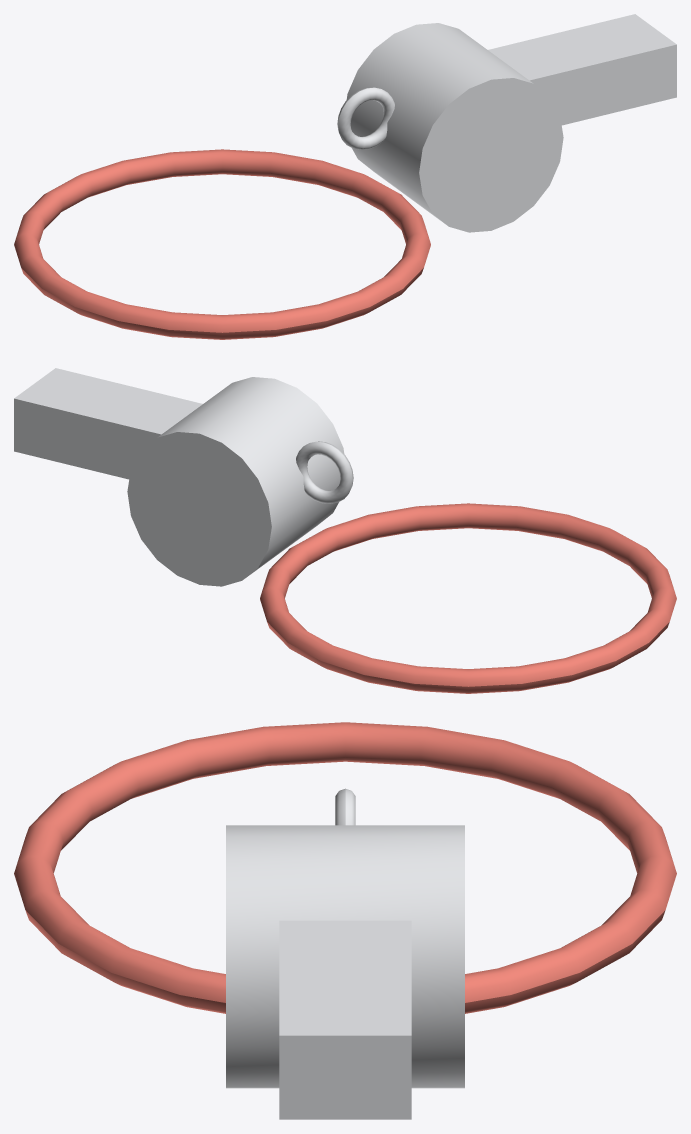
File: coi_trong_tai.glb
The picture shows the model from 3 angles, top to bottom: view 1: azimuth 30°, elevation 25°; view 2: azimuth 150°, elevation 25°; view 3: azimuth 270°, elevation 25°; orthographic projection. The views are drawn at different scales.
Visible parts, largest first — view 1: Cyl1, Tor2, Box1, Tor1; view 2: Cyl1, Tor2, Box1, Tor1; view 3: Tor2, Cyl1, Box1, Tor1.
Boxes of the visible parts, x1,y1,x2,y2 form: Cyl1: [346, 23, 563, 232]; Tor2: [14, 149, 430, 339]; Box1: [488, 14, 676, 125]; Tor1: [337, 87, 394, 149]; Cyl1: [127, 377, 344, 586]; Tor2: [260, 503, 676, 693]; Box1: [14, 368, 202, 479]; Tor1: [296, 441, 353, 503]; Tor2: [14, 722, 676, 1013]; Cyl1: [226, 825, 464, 1088]; Box1: [279, 920, 411, 1119]; Tor1: [335, 788, 355, 825].
Size of the model in its own units: 0.425 by 0.1 by 0.25.
